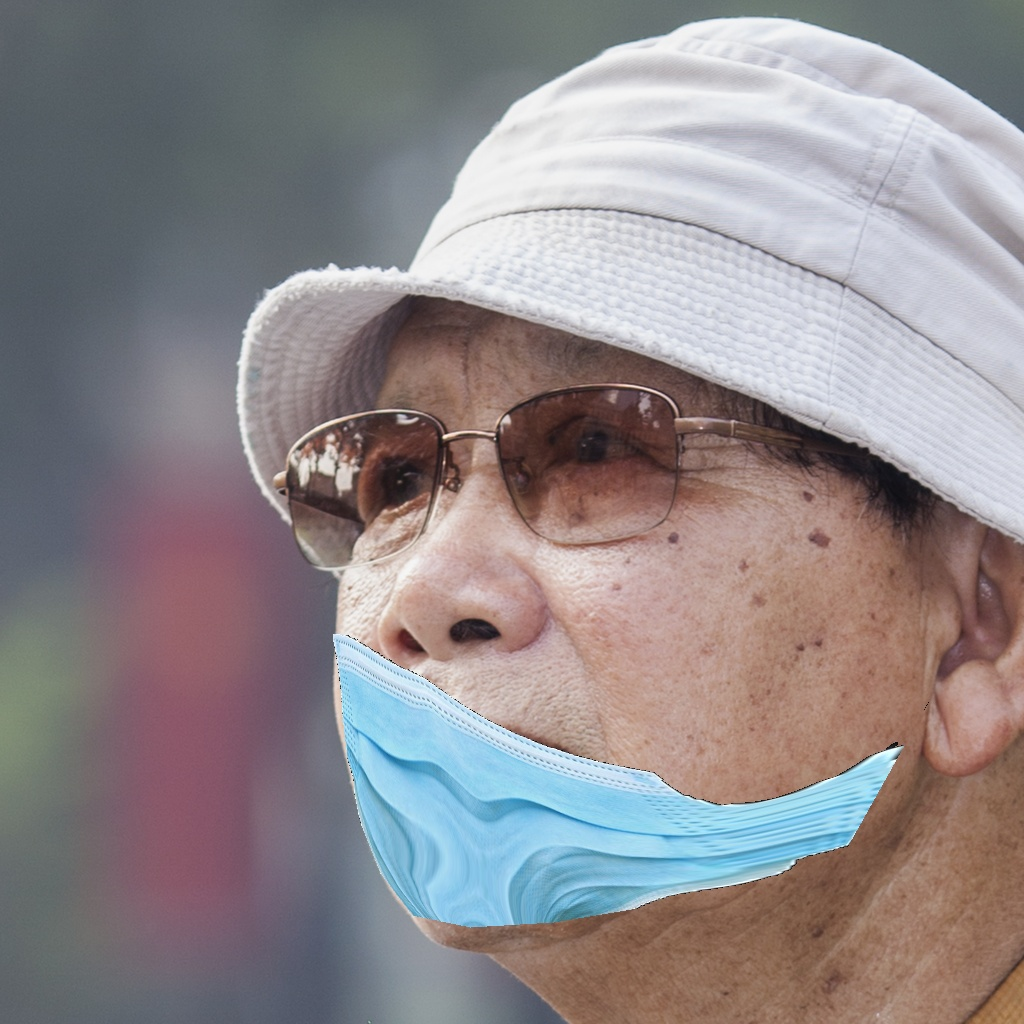mascarilla_mal_puesta: (257, 315, 844, 990)
